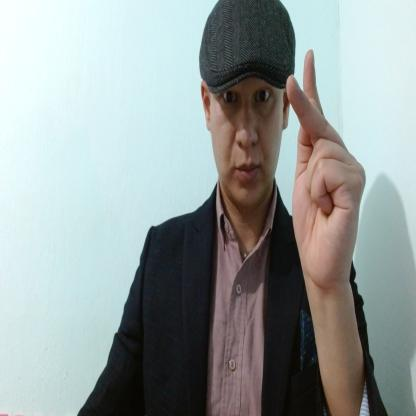P: (285, 47, 368, 289)
